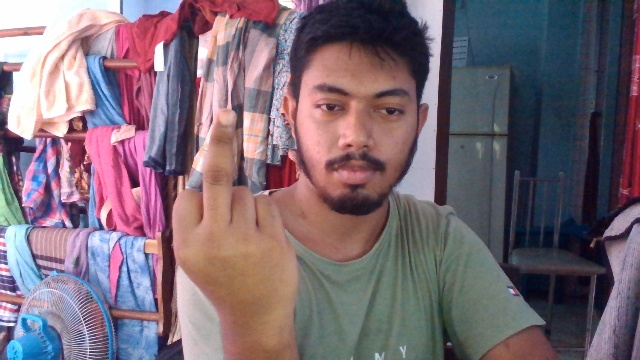fucku: (170, 106, 306, 312)
